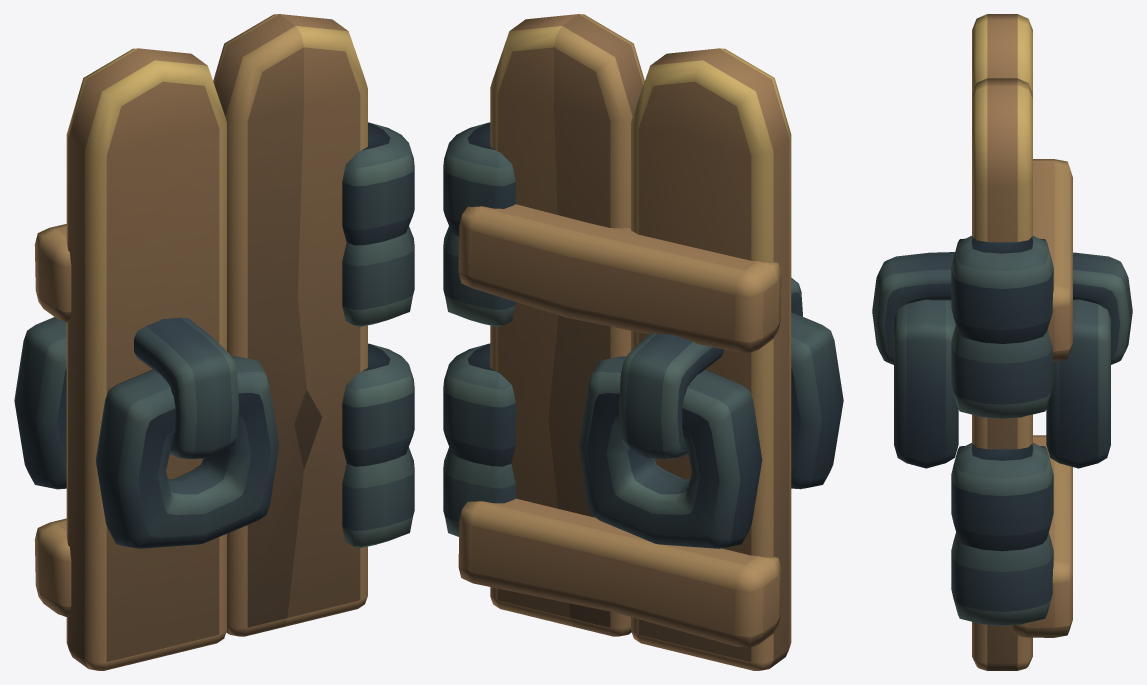
Rendered from fence1_door_LOD_setup.fbx.
The picture shows the model from 3 angles, left to right: view 1: azimuth 30°, elevation 25°; view 2: azimuth 150°, elevation 25°; view 3: azimuth 270°, elevation 25°; orthographic projection. The views are drawn at different scales.
Visible parts, largest first — view 1: fence1_door_LOD0; view 2: fence1_door_LOD0; view 3: fence1_door_LOD0.
Boxes of the visible parts, left/top/right/bottom form: fence1_door_LOD0: left=14, top=14, right=414, bottom=670; fence1_door_LOD0: left=443, top=14, right=843, bottom=670; fence1_door_LOD0: left=872, top=14, right=1132, bottom=670.
Size of what is drawn, in the model's own units: 122 by 202 by 85.54.
